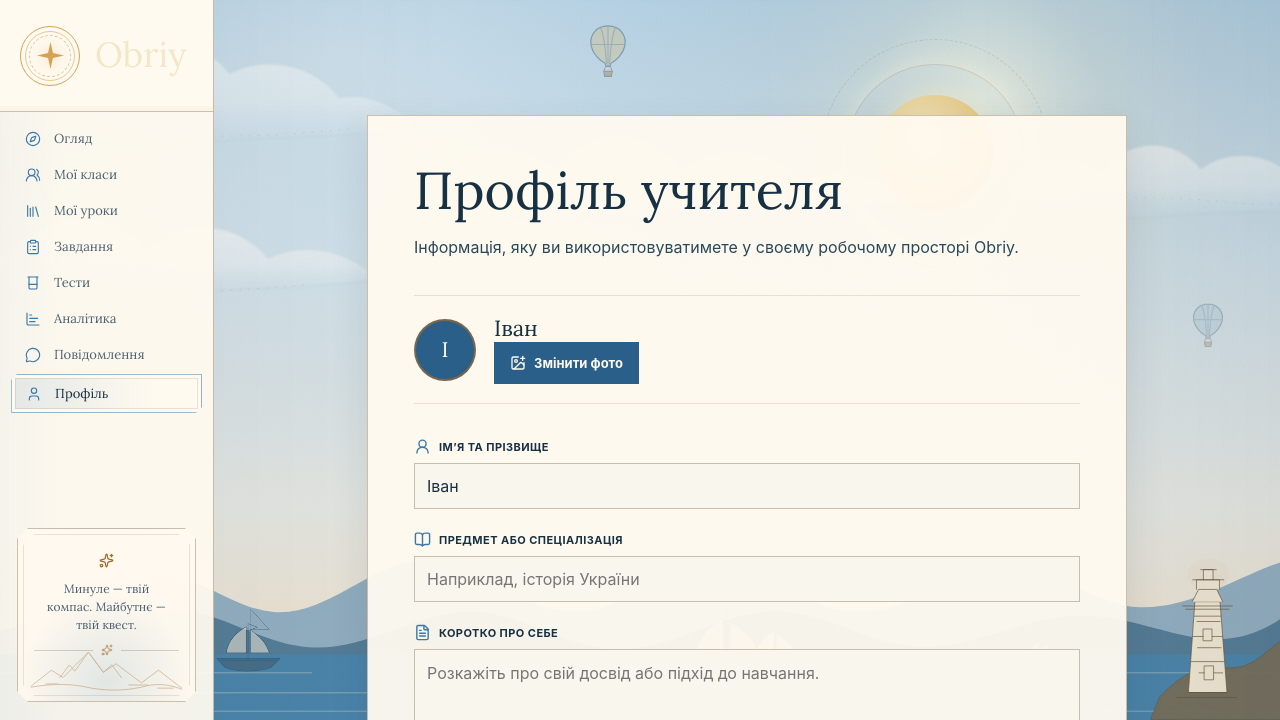
Test: AppRouter auth boundaries › keeps the real teacher profile inside the sidebar shell and saves it
Check: the heading "Профіль учителя" is shown, box [414,157,843,223]
Check: the element that starts with "Obriy" is shown, box [0,0,214,719]
Replace the text in the field labelled "Ім’я та прізвище" with "О" at (747, 486), box [414,463,1080,509]
(page scrolled)
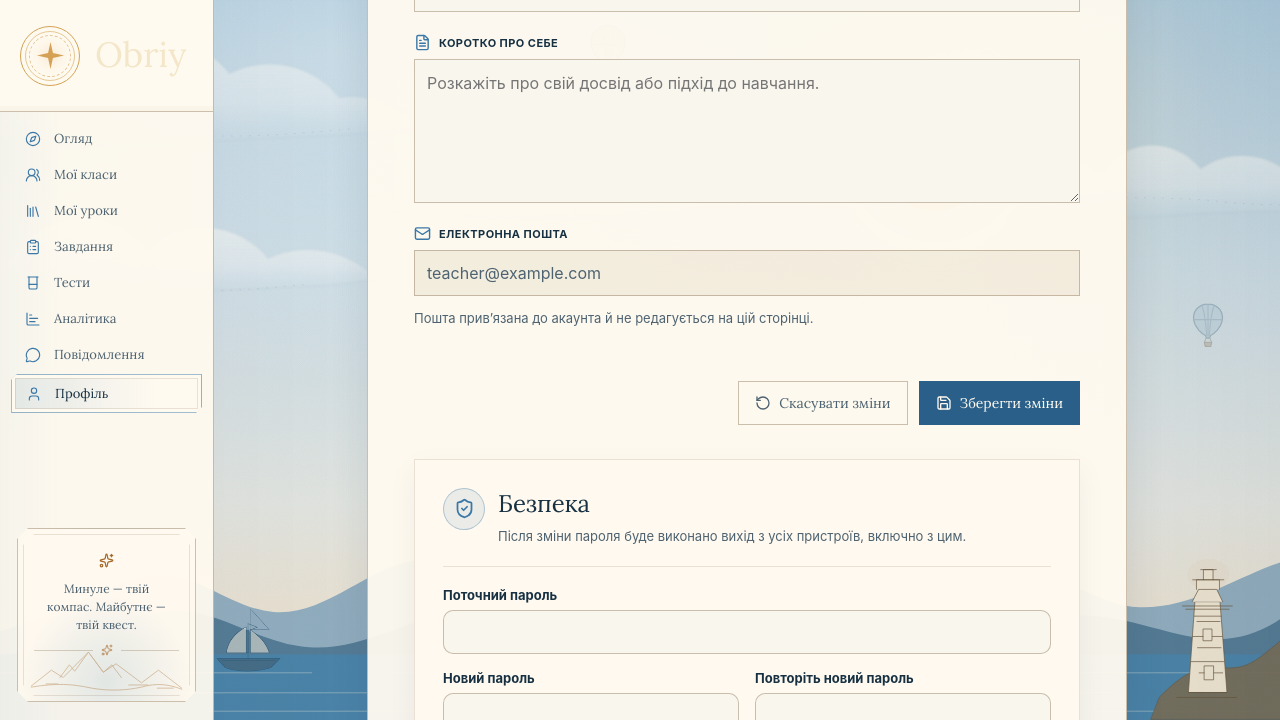
Click the button "Зберегти зміни".
click(999, 403)  # box [919,381,1080,425]
(page scrolled)
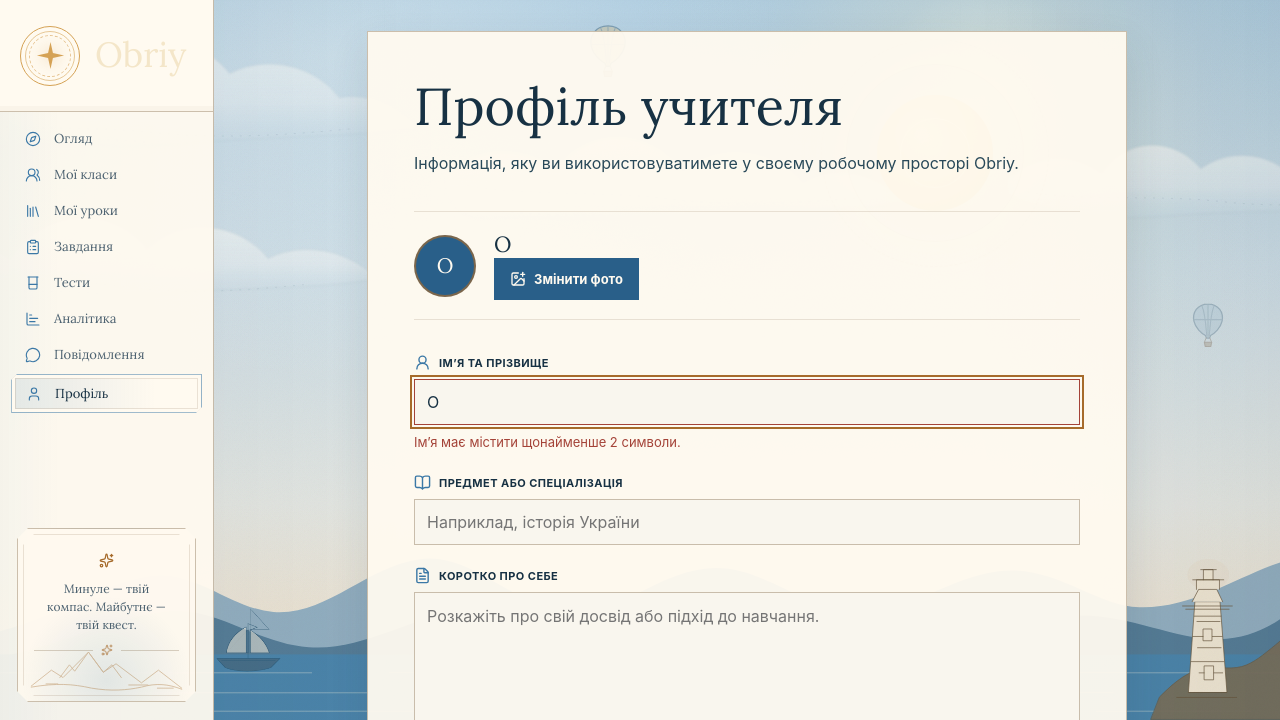
Check: the text "Ім’я має містити щонайменше 2 символи." is shown, box [414,434,681,450]
Replace the text in the field labelled "Ім’я та прізвище" with "Олена Коваль" at (747, 402), box [414,379,1080,425]
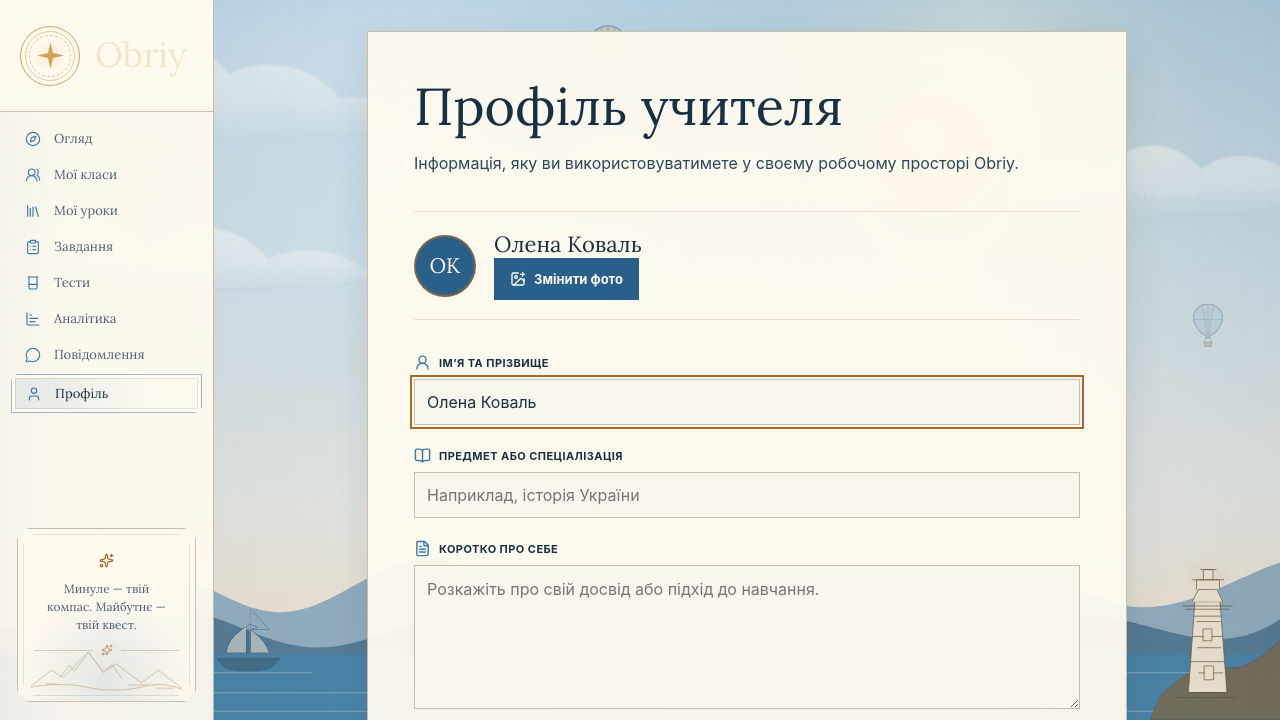
Type "Історія України" into the field labelled "Предмет або спеціалізація".
click(747, 495); type("Історія України")  # box [414,472,1080,518]
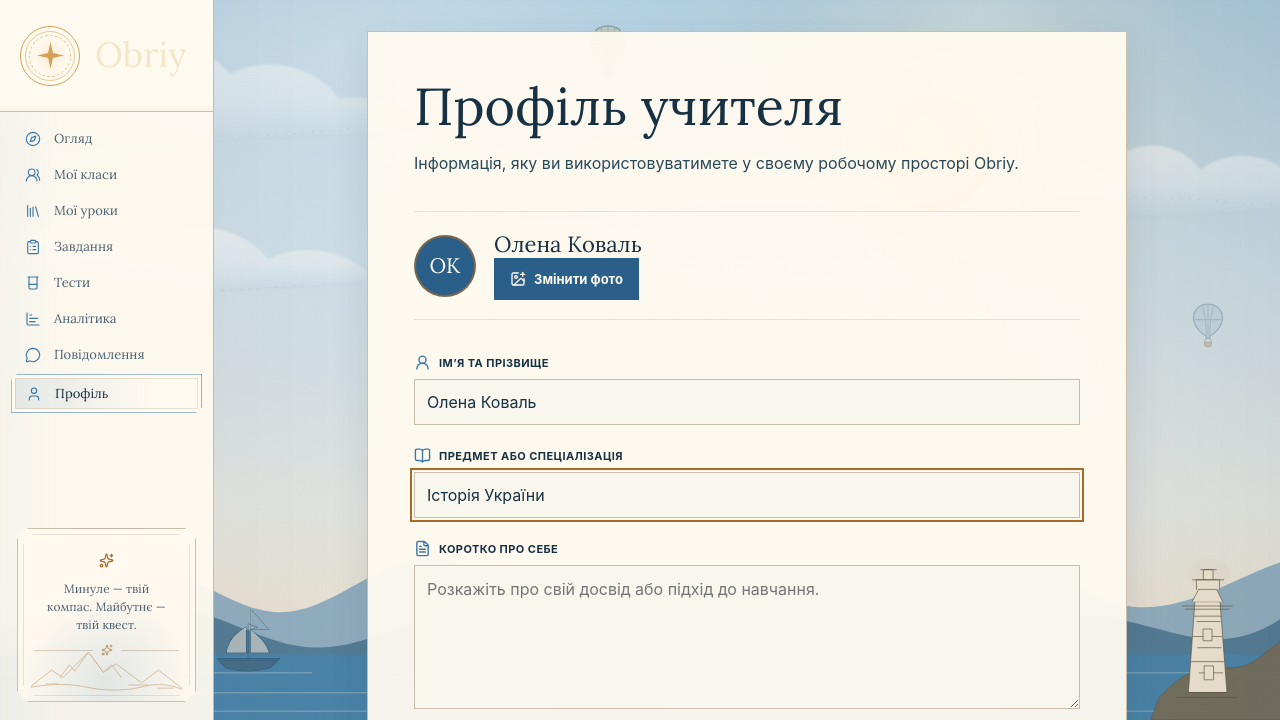
Type "Допомагаю учням бачити зв’язки між подіями." into the text box labelled "Коротко про себе".
click(747, 637); type("Допомагаю учням бачити зв’язки між подіями.")  # box [414,565,1080,709]
(page scrolled)
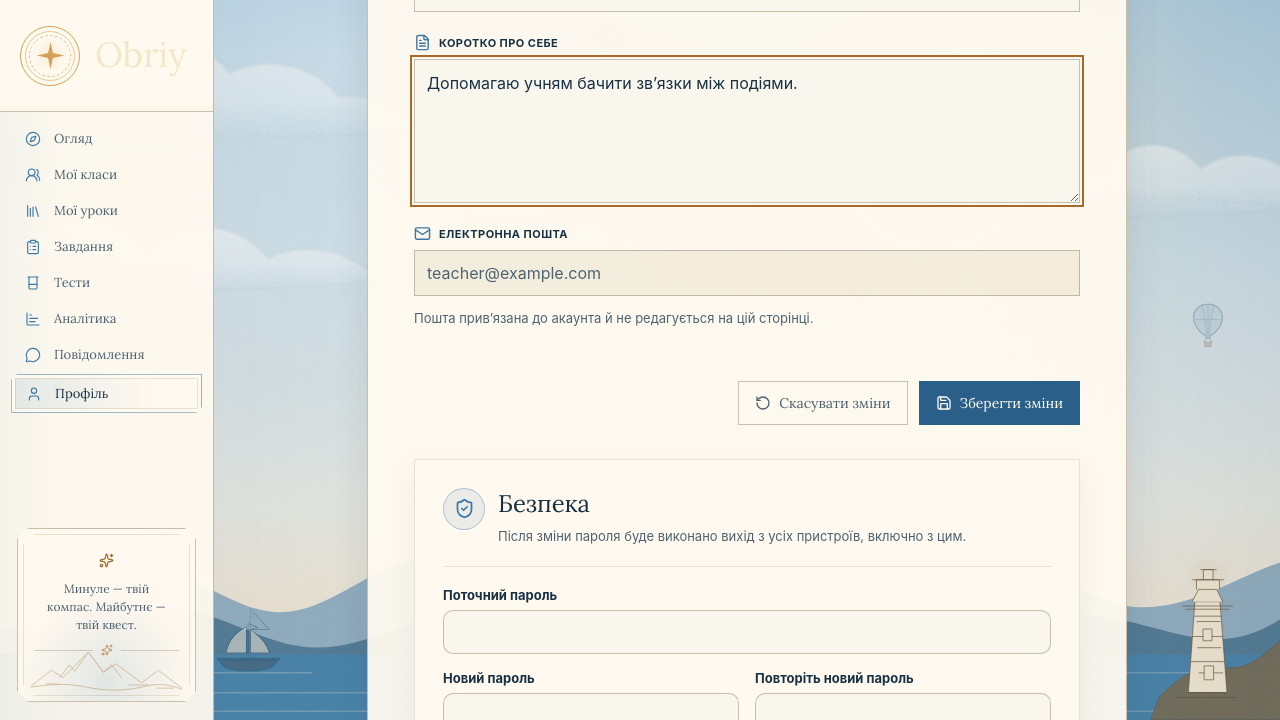
Click the button "Зберегти зміни".
click(999, 403)  # box [919,381,1080,425]
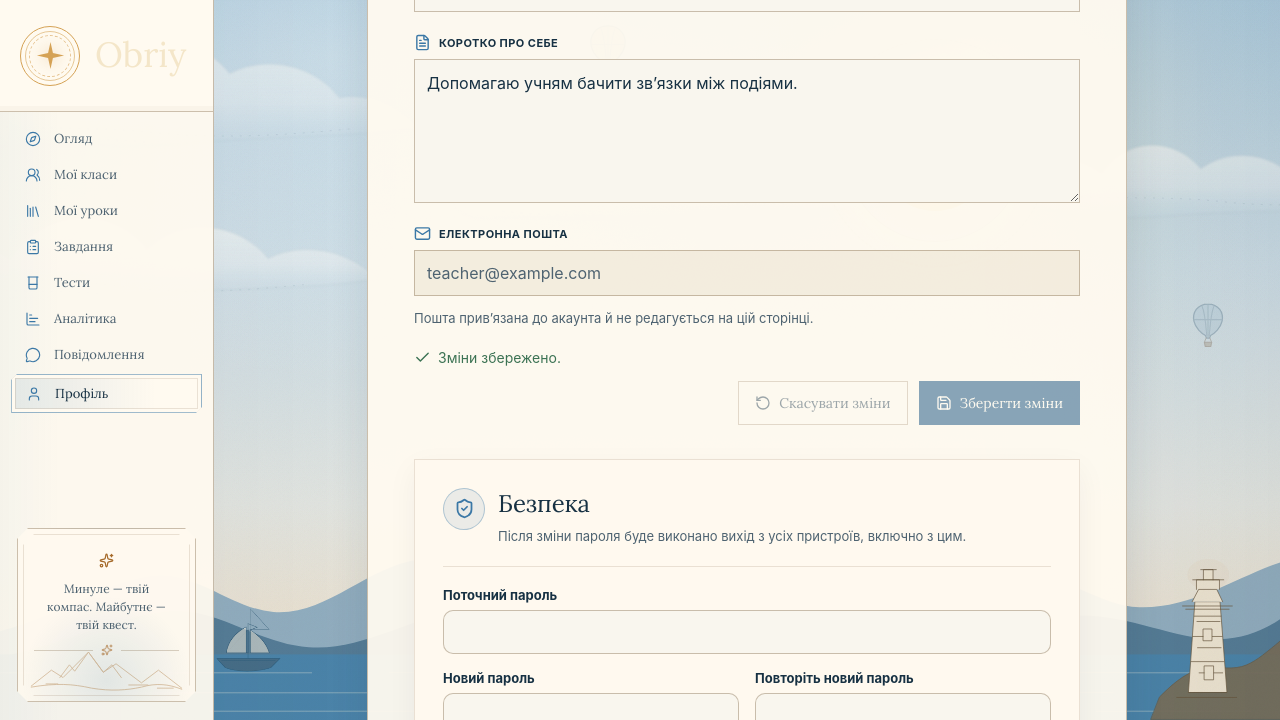
Check: the text "Зміни збережено." is shown, box [414,349,561,366]
